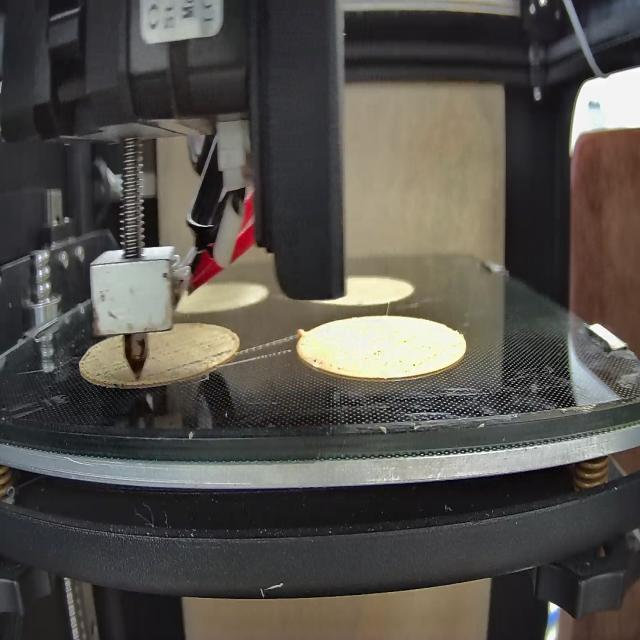under_extrusion: (167, 341, 238, 374), (370, 339, 432, 376), (86, 343, 125, 389), (310, 349, 357, 384)
